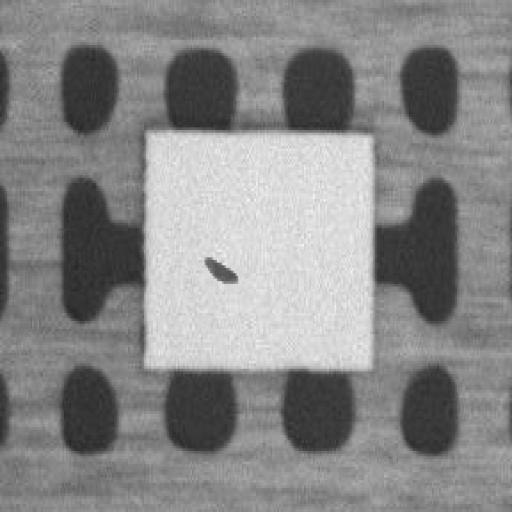DIE_INK: (294, 165, 364, 192)
